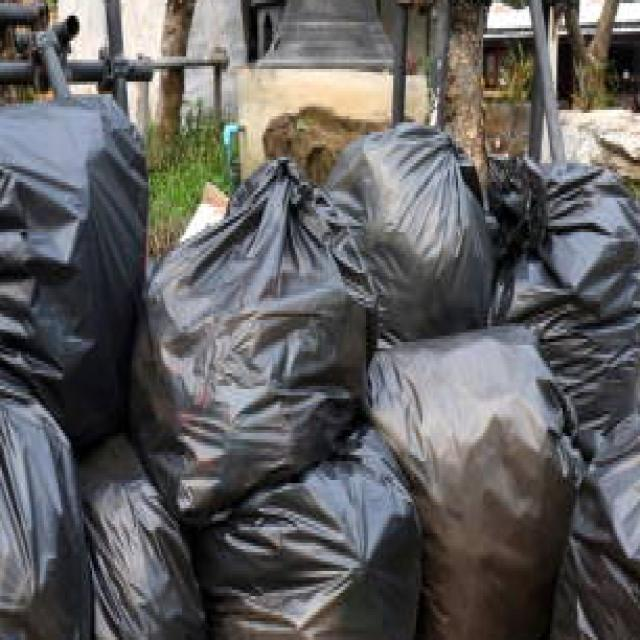Trashbag: (136, 179, 384, 495), (376, 307, 578, 640), (0, 97, 162, 415), (214, 447, 423, 640), (343, 115, 500, 330), (0, 379, 100, 636), (502, 154, 638, 331), (90, 444, 200, 638)
